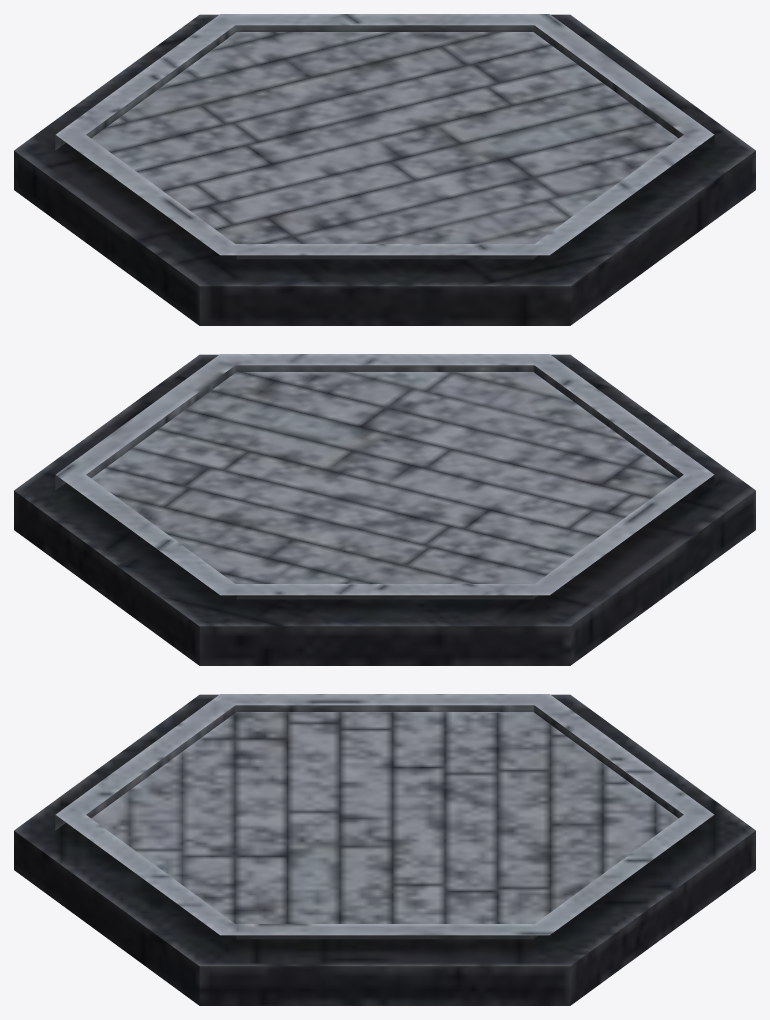
Rendered from pad_off.glb.
3 views of the same model, one above another, from view 1: azimuth 30°, elevation 25°; view 2: azimuth 150°, elevation 25°; view 3: azimuth 270°, elevation 25° (orthographic).
Visible parts, largest first — view 1: pad_off; view 2: pad_off; view 3: pad_off.
Boxes of the visible parts, <box> form: pad_off: <box>14,14,755,325</box>; pad_off: <box>14,354,755,665</box>; pad_off: <box>14,694,755,1005</box>.
Size of the model in its own units: 1.47 by 0.14 by 1.7.
1 material, 1 textured.
